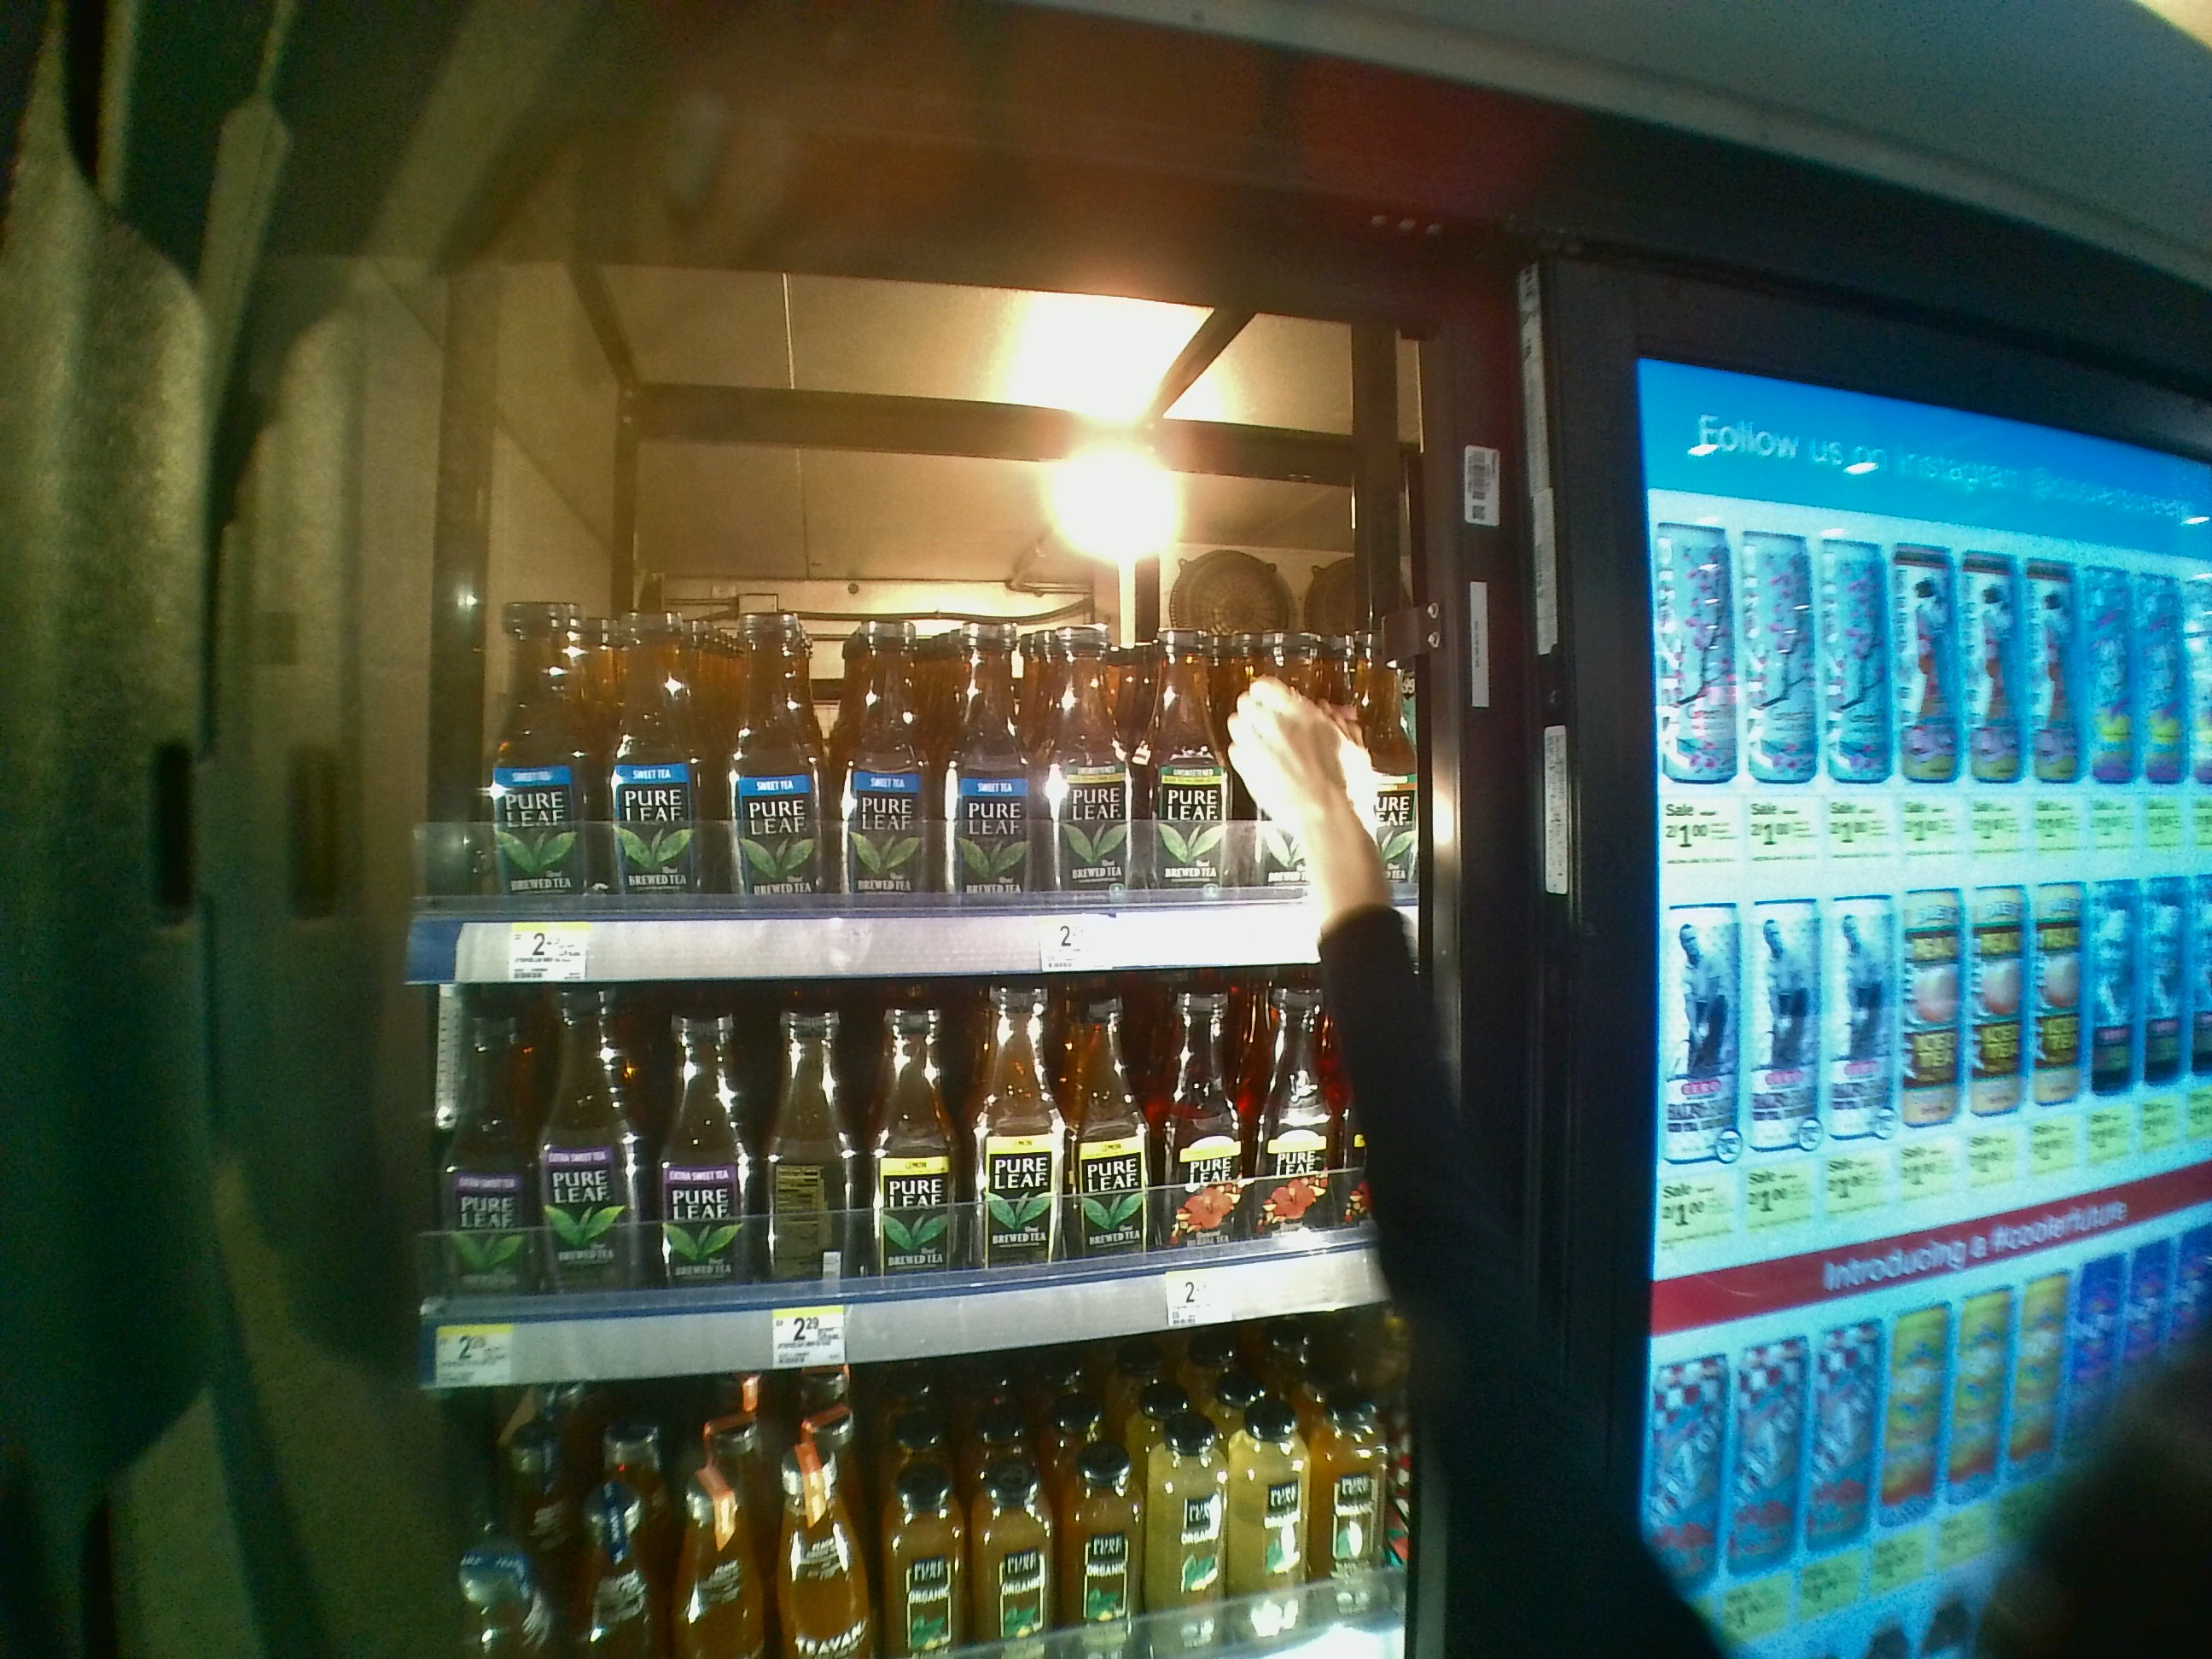shelf: (415, 387, 1418, 983), (415, 997, 1439, 1391)
